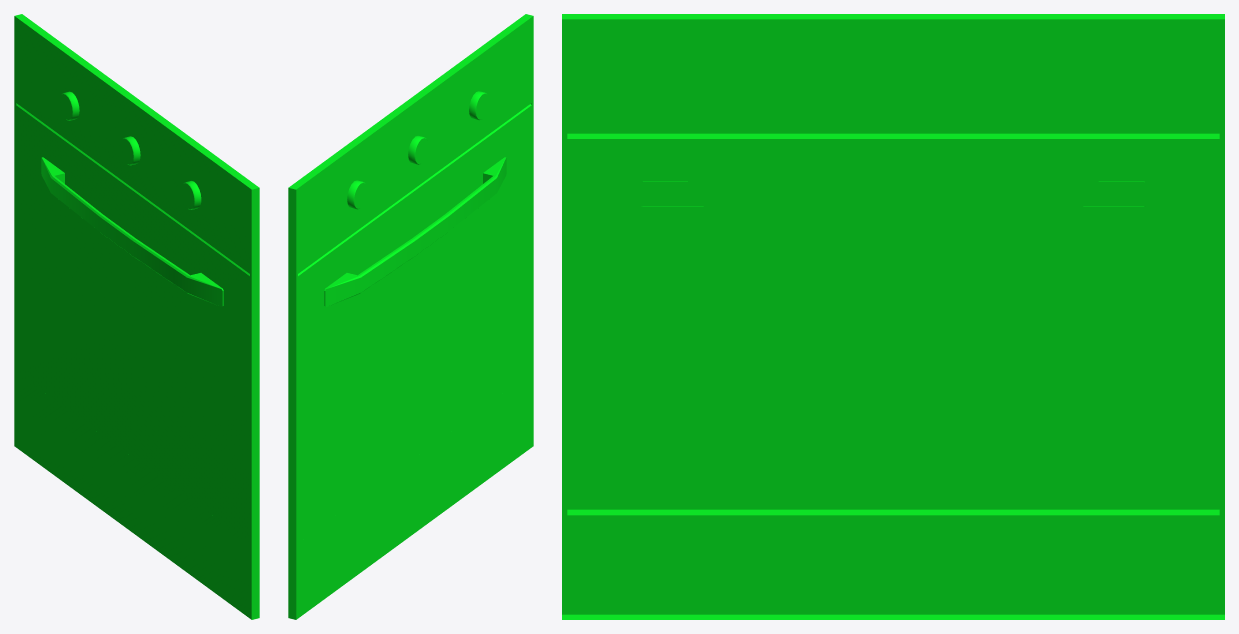
Rendered from Oven.FBX.
The picture shows the model from 3 angles, left to right: view 1: azimuth 30°, elevation 25°; view 2: azimuth 150°, elevation 25°; view 3: azimuth 270°, elevation 25°; orthographic projection. The views are drawn at different scales.
Visible parts, largest first — view 1: Hotari Pointstone001; view 2: Hotari Pointstone001; view 3: Hotari Pointstone001.
Boxes of the visible parts, <box> form: Hotari Pointstone001: <box>14,14,259,619</box>; Hotari Pointstone001: <box>288,14,533,619</box>; Hotari Pointstone001: <box>562,14,1224,619</box>.
Bounding box in the file's own units: 3.63 × 59.5 × 59.5.
